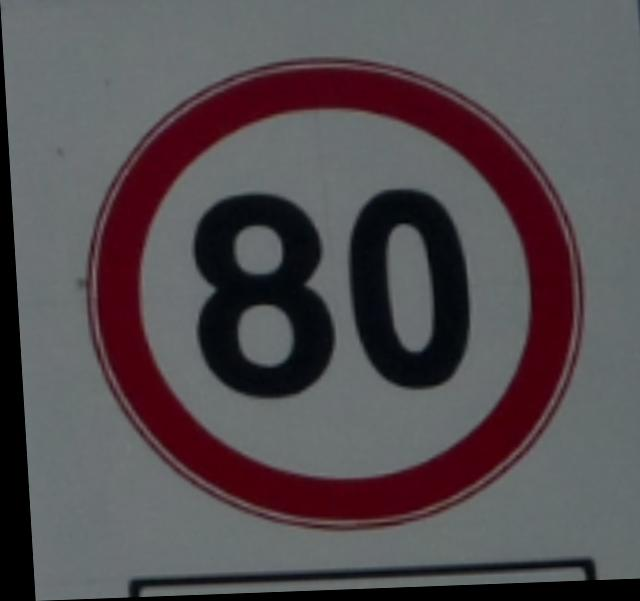limit80: (54, 39, 602, 547)
